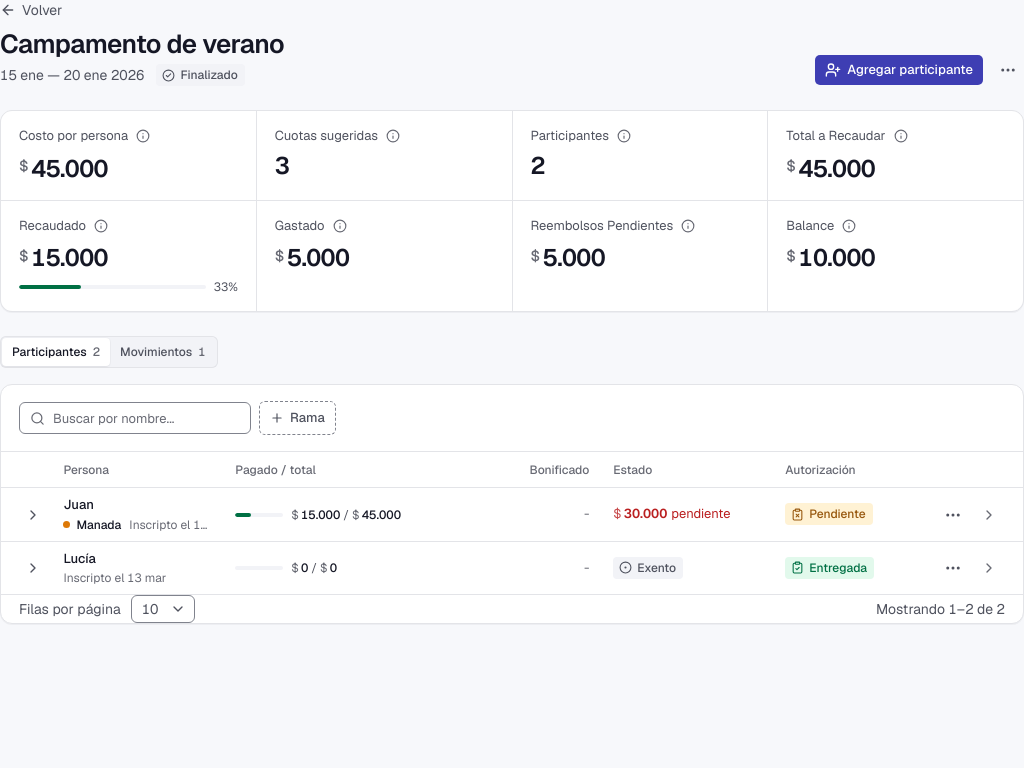
Test: CampamentoDetailView › acción principal: Agregar participante abre el diálogo
The image size is (1024, 768).
Click the button "Agregar participante".
click(899, 70)  # box 814,54 -> 984,86
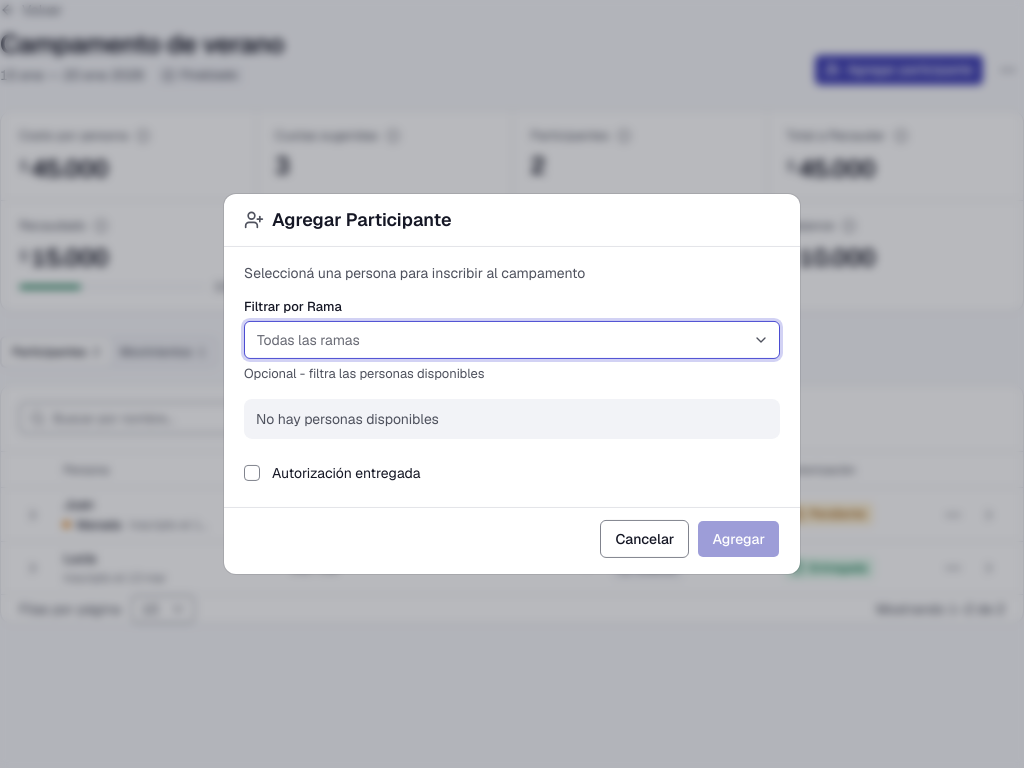
Check: the dialog "Agregar Participante" is shown, box 224,194 -> 800,574
